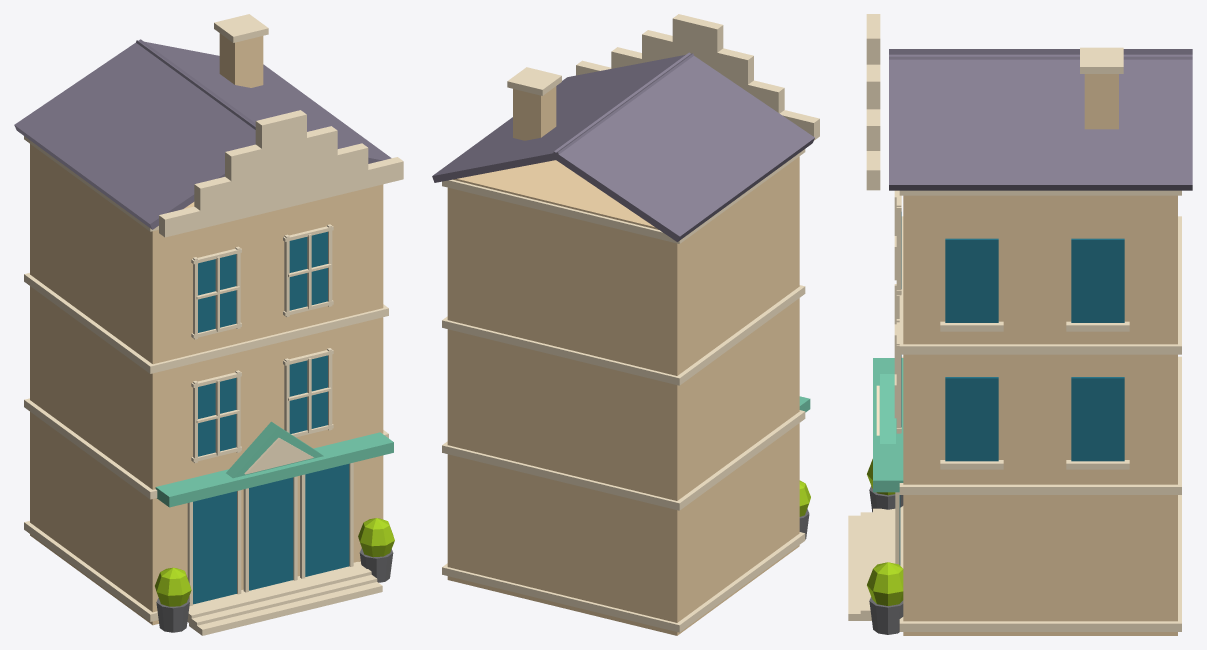
Rendered from Building_Cream_Stepped_Gable.glb.
The picture shows the model from 3 angles, left to right: view 1: azimuth 30°, elevation 25°; view 2: azimuth 150°, elevation 25°; view 3: azimuth 270°, elevation 25°; orthographic projection. The views are drawn at different scales.
Parts seen in each view (by area): view 1: Building_Cream_Stepped_Gable; view 2: Building_Cream_Stepped_Gable; view 3: Building_Cream_Stepped_Gable.
Part boxes in pixels (x1,y1,x2,y2): Building_Cream_Stepped_Gable: (14,14,403,635); Building_Cream_Stepped_Gable: (432,14,819,635); Building_Cream_Stepped_Gable: (848,14,1192,635).
Size of the model in its own units: 4.21 by 7.95 by 4.51.
